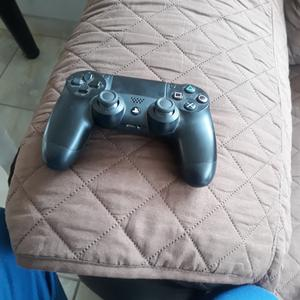controller: (42, 70, 216, 187)
